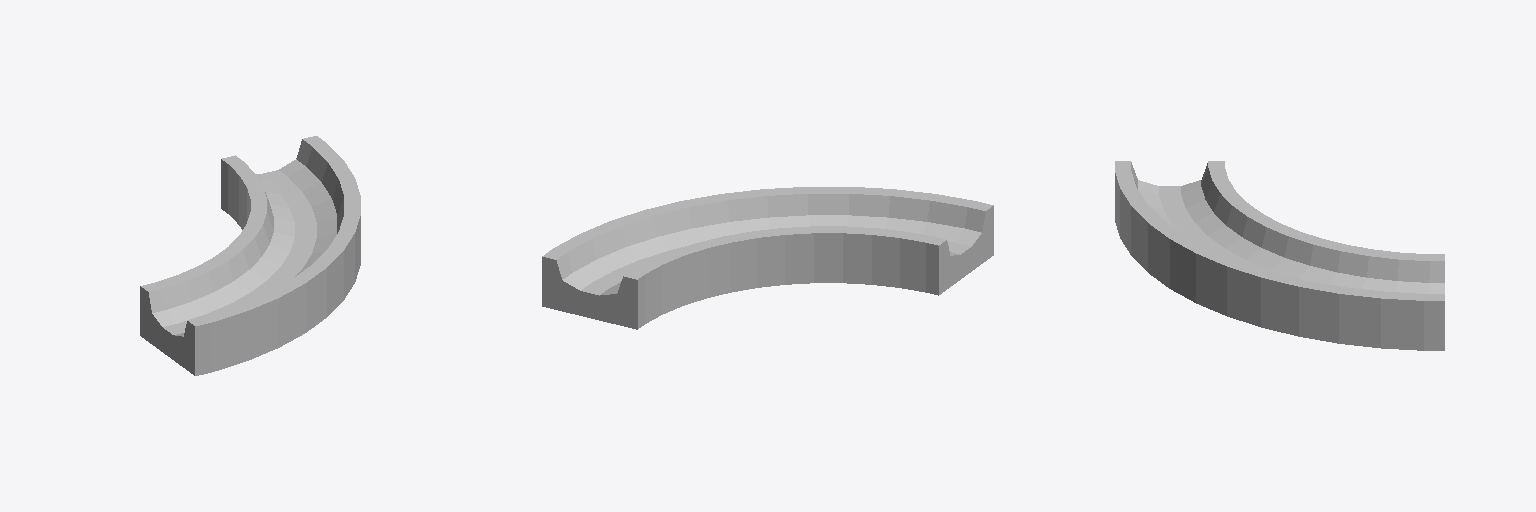
The model's file is curve-large.obj.
The picture shows the model from 3 angles: view 1: azimuth 30°, elevation 25°; view 2: azimuth 150°, elevation 25°; view 3: azimuth 270°, elevation 25°; orthographic projection.
Visible parts, largest first — view 1: curve-large; view 2: curve-large; view 3: curve-large.
Part boxes in pixels (left/top/right/bottom): curve-large: left=140, top=136, right=360, bottom=375; curve-large: left=542, top=187, right=993, bottom=329; curve-large: left=1115, top=161, right=1444, bottom=350.
Bounding box in the file's own units: 3 × 0.5 × 3.